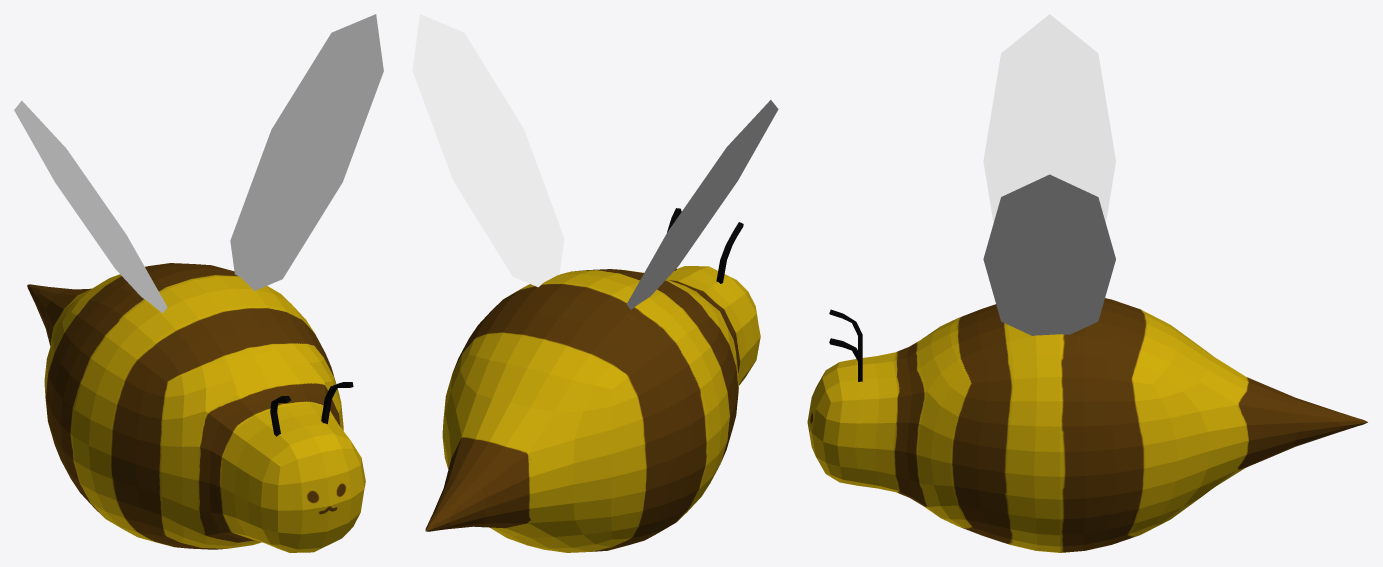
Rendered from abeja.fbx.
The picture shows the model from 3 angles, left to right: view 1: azimuth 30°, elevation 25°; view 2: azimuth 150°, elevation 25°; view 3: azimuth 270°, elevation 25°; orthographic projection. The views are drawn at different scales.
Parts seen in each view (by area): view 1: Cube.003, Plane.002, Plane.003; view 2: Cube.003, Plane.002, Plane.003, Cube.005; view 3: Cube.003, Plane.003, Plane.002.
Boxes of the visible parts, x1,y1,x2,y2 form: Cube.003: [27, 263, 365, 552]; Plane.002: [230, 14, 383, 290]; Plane.003: [14, 100, 167, 313]; Cube.003: [425, 266, 760, 552]; Plane.002: [412, 14, 564, 287]; Plane.003: [626, 100, 778, 309]; Cube.005: [716, 222, 743, 283]; Cube.003: [807, 298, 1367, 552]; Plane.003: [983, 14, 1115, 222]; Plane.002: [983, 174, 1115, 335].
Bounding box in the file's own units: 235 × 304 × 348.
